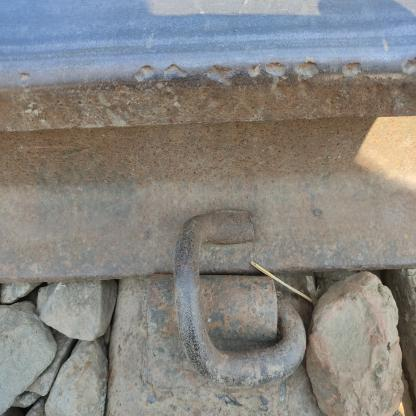Non Defective: (113, 151, 354, 412)
